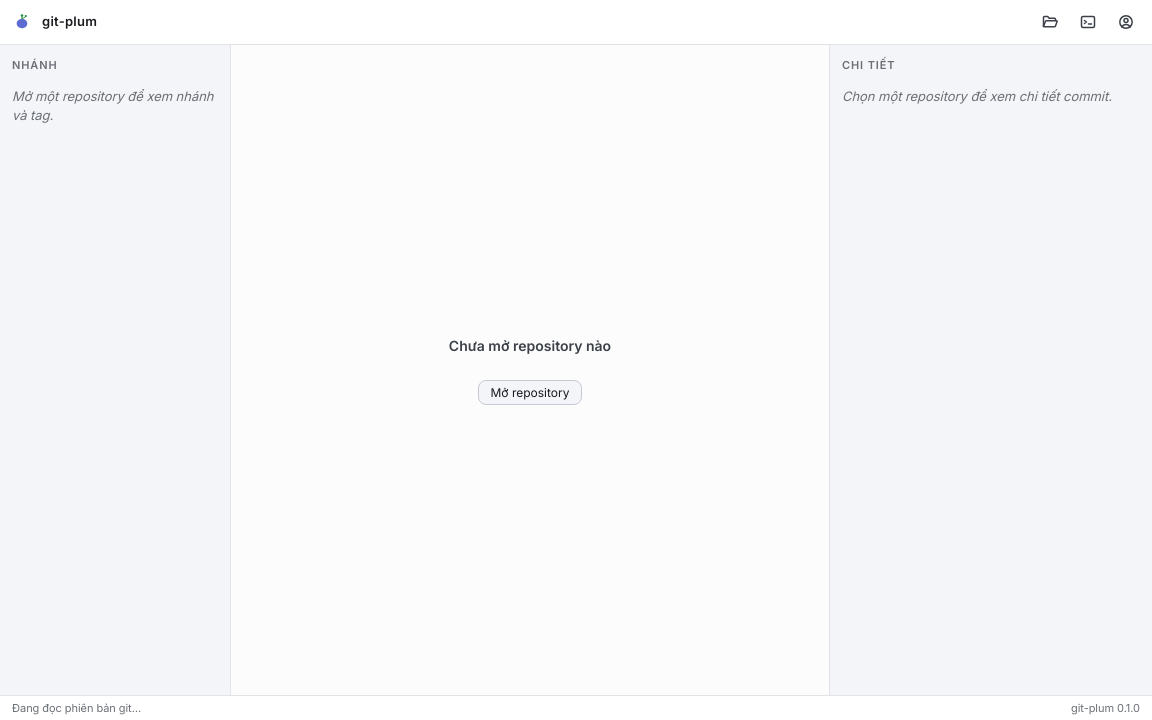
nhật ký lệnh — mặc định ẩn để trình xem diff được full height › bấm nút thanh công cụ thì nhật ký hiện ra — PLAT-08 vẫn trọn
The image size is (1152, 720).
Click the button named "Nhật ký lệnh" at x=1088, y=22, box [1074, 8, 1102, 36]
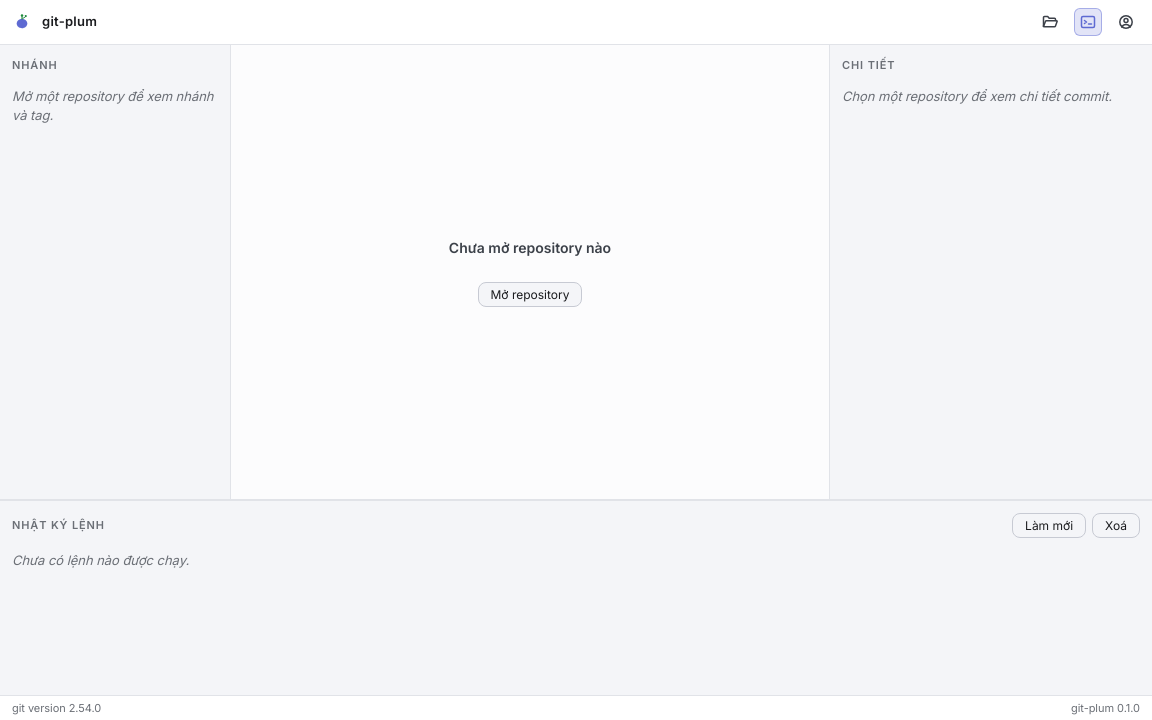
Now the heading "Nhật ký lệnh" is shown, box [12, 517, 105, 534]
